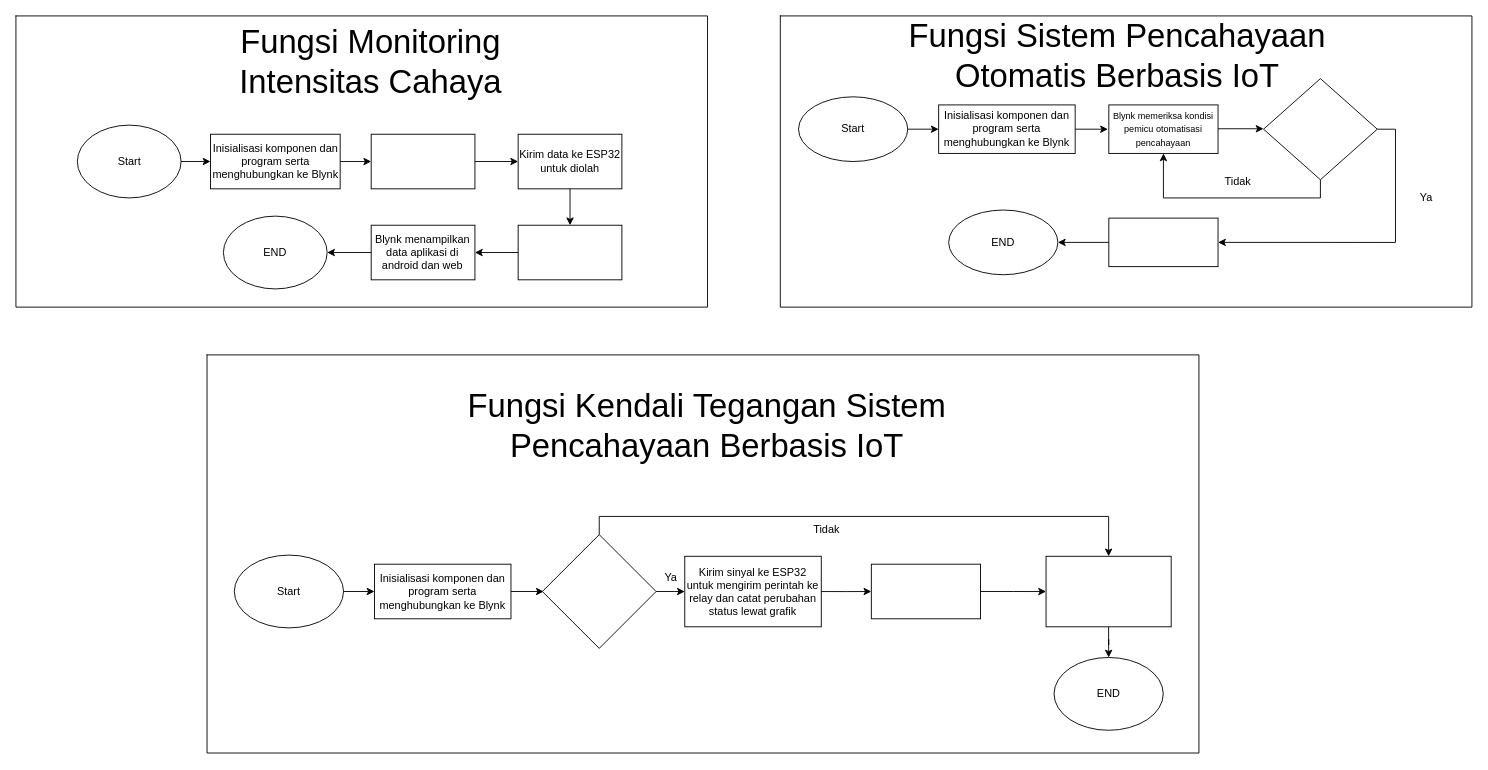
Some shapes in this 1488 by 770 pixel diagram are drawn without their labels. The centre of each missing label's shape, as x and y in pixels:
Apakah status relay pada Blynk telah berubah?: the point at 598,591
ESP32 mengirim hasil olah data ke Blynk: the point at 569,252
Kirim sinyal ke ESP32 untuk eksekusi perintah: the point at 1163,242
Mendeteksi cahaya berdasarkan lingkungan sekitar: the point at 422,161
Pemicu otomatisasi sesuai dengan keadaan?: the point at 1320,129
Relay merespon sesuai perintah dan mengubah statusnya: the point at 925,591
Status sistem pencahayaan sesuai dengan kondisi relay: the point at 1108,591
